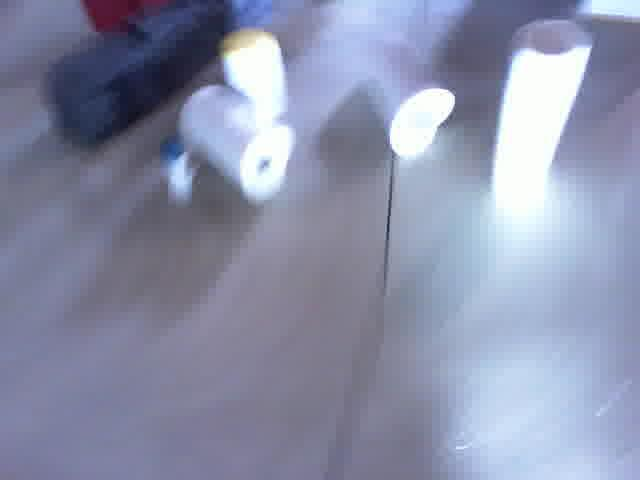coral: (483, 16, 603, 198), (359, 28, 455, 163)
